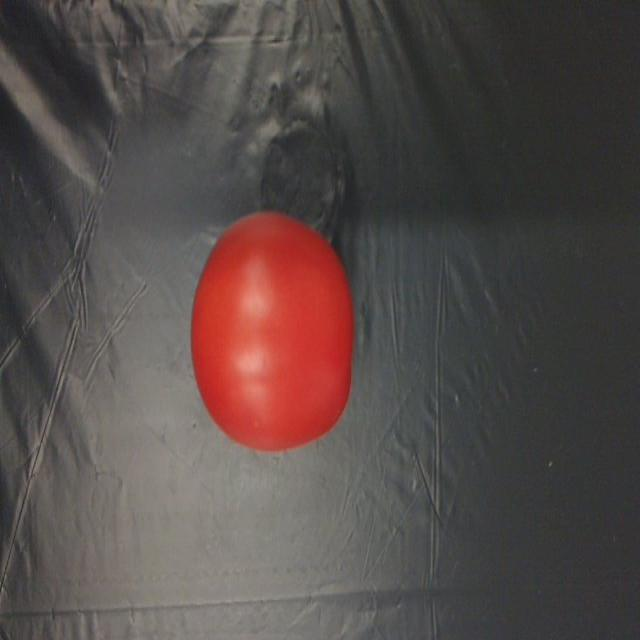kirmizi: (170, 208, 366, 461)
